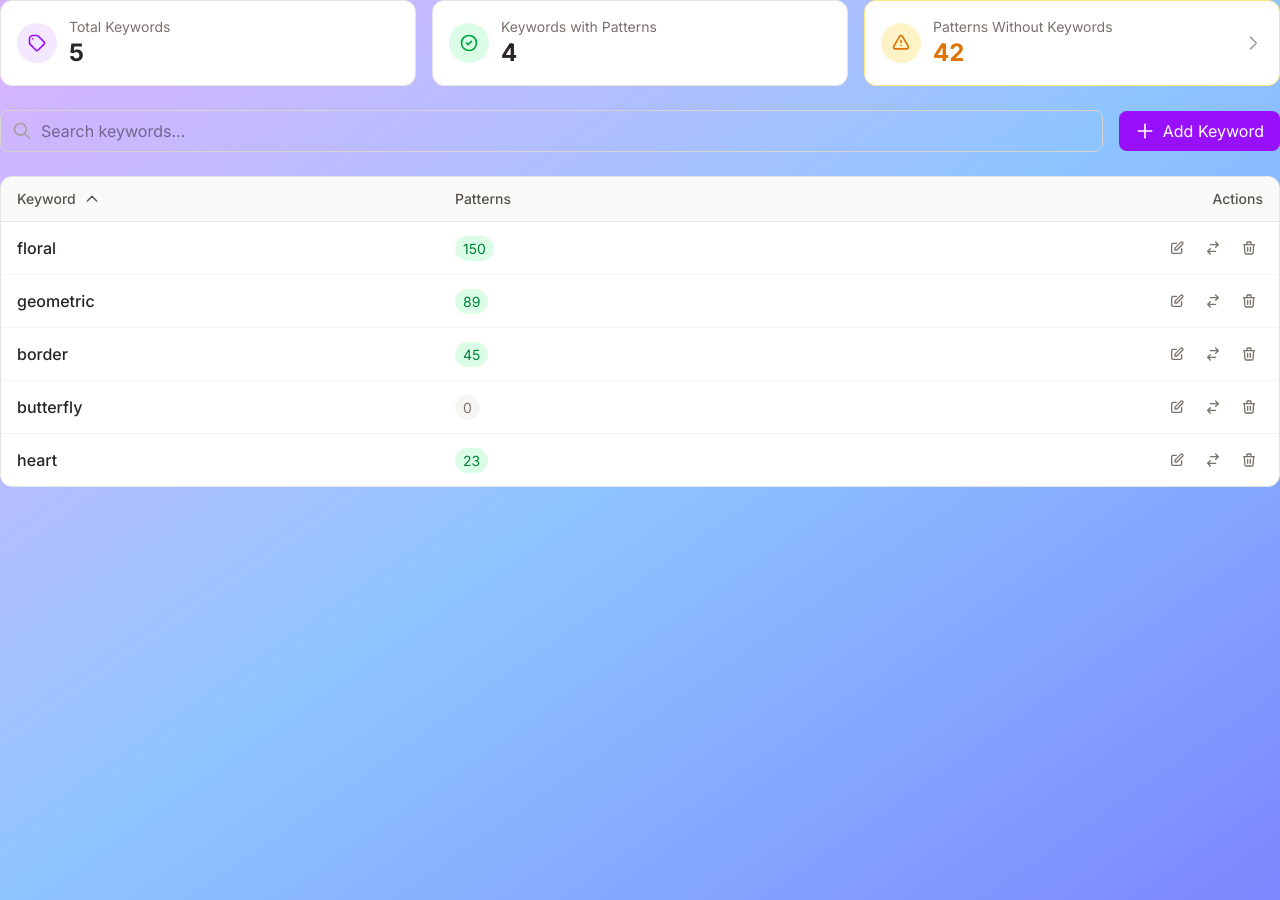
Test case: KeywordManager › edit keyword modal › saves edited keyword successfully
The image size is (1280, 900).
Check: the text "floral" is shown, box [17, 238, 56, 258]
Click the button titled "Edit keyword" in the row of "floral" at point(1177, 248), box [1163, 234, 1191, 262]
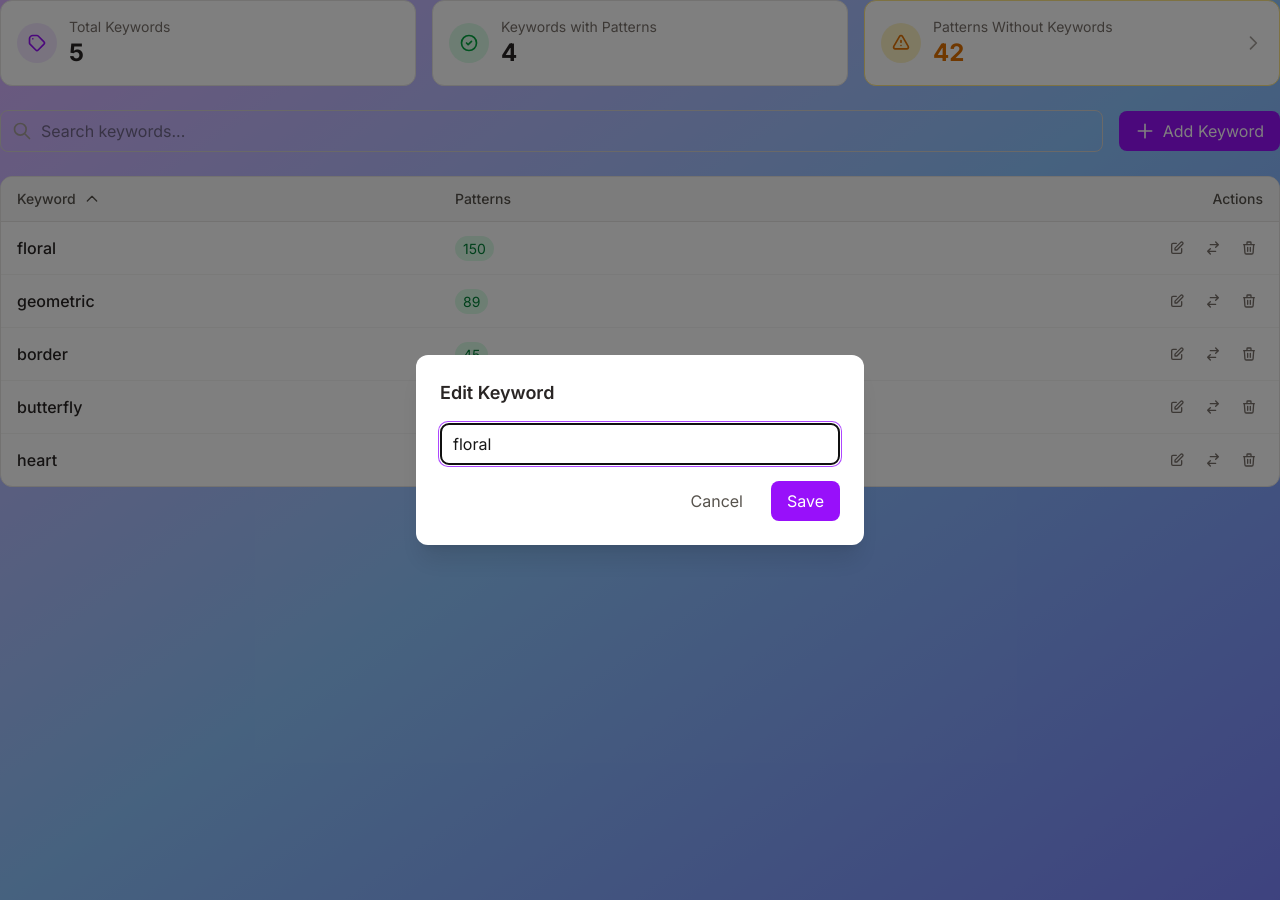
Check: the heading "Edit Keyword" is shown, box [440, 382, 554, 403]
Replace the text in the field showing "floral" with "florals" at point(640, 444), box [440, 423, 840, 465]
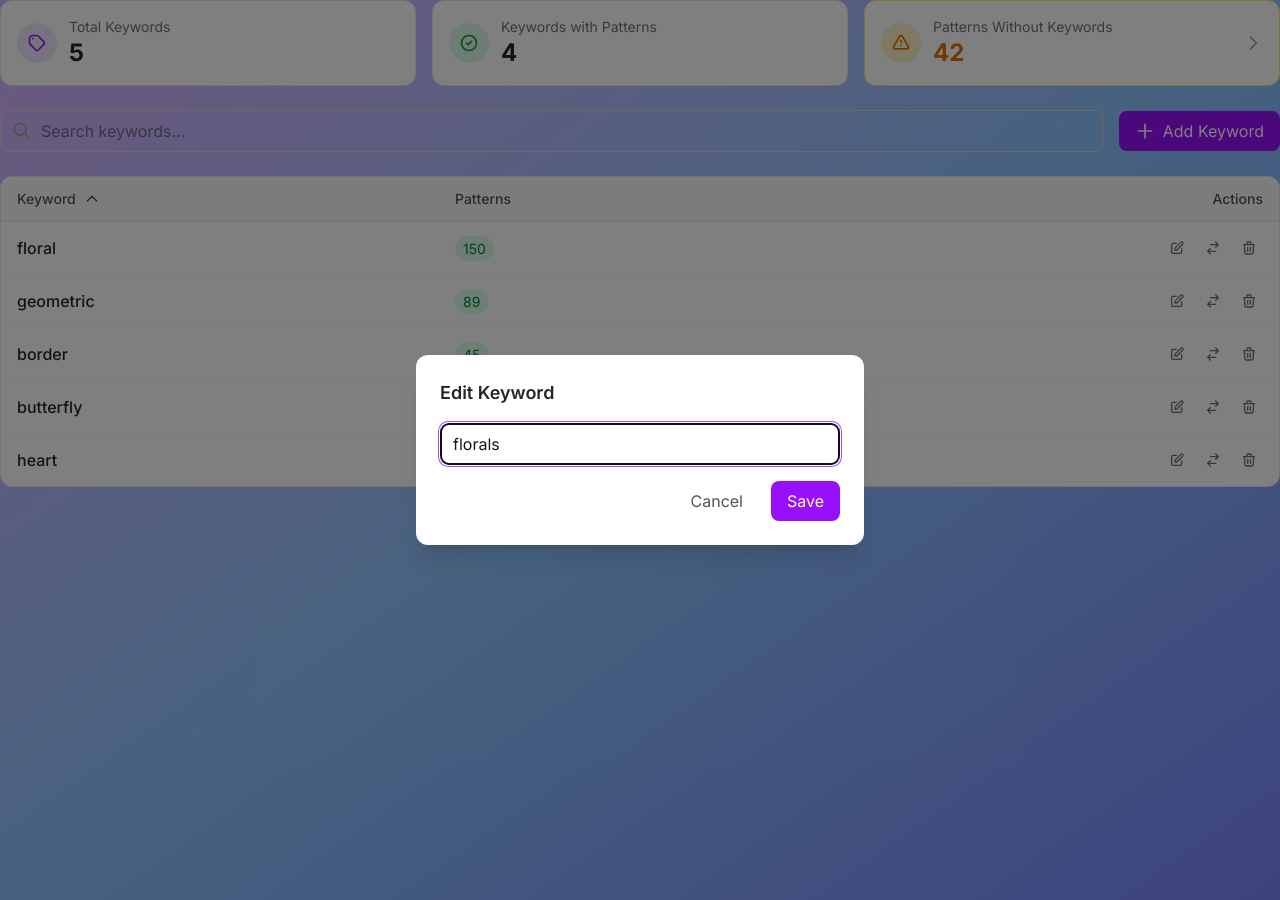
Click the button "Save" at point(806, 501), box [771, 481, 840, 521]
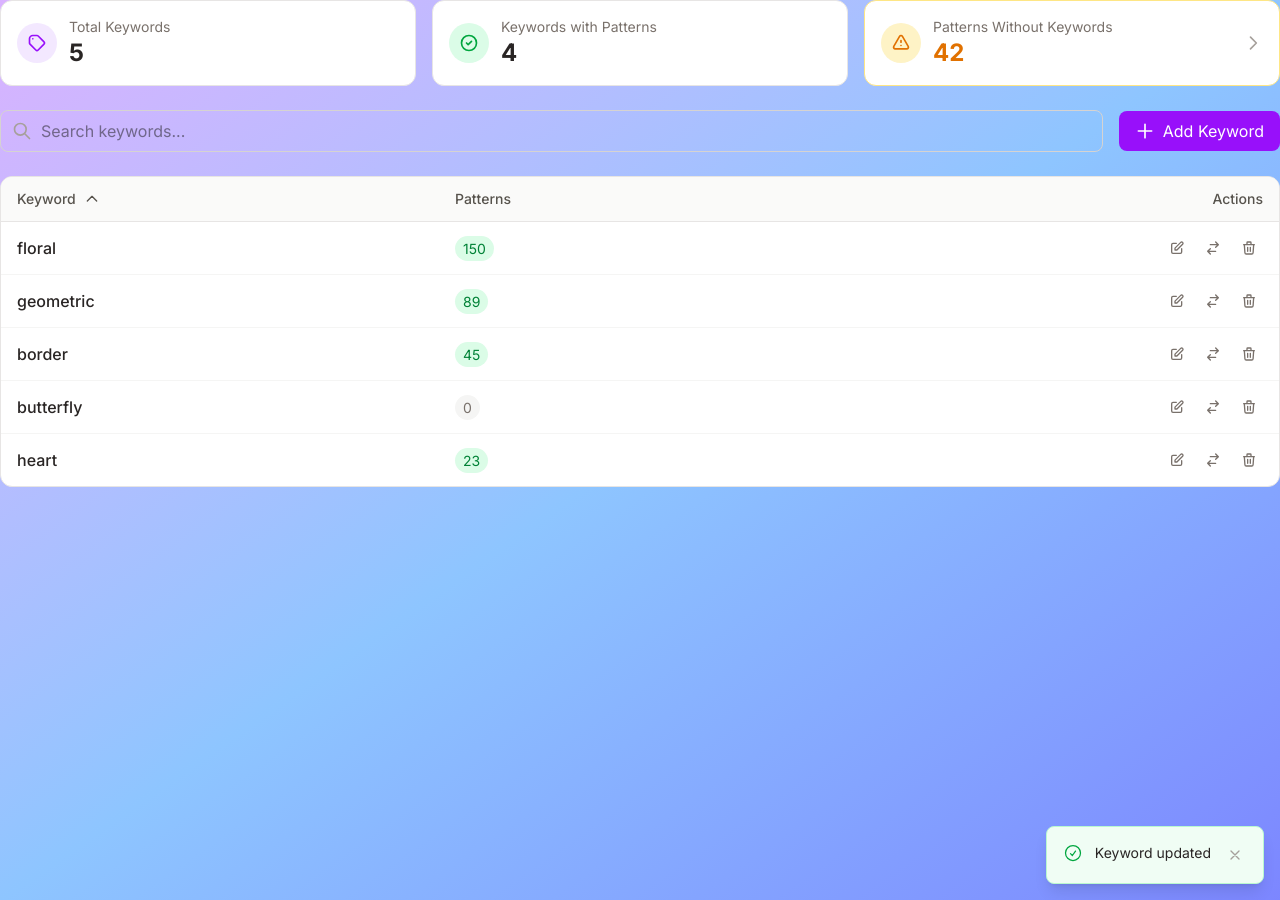
Check: the heading "Edit Keyword" is gone
